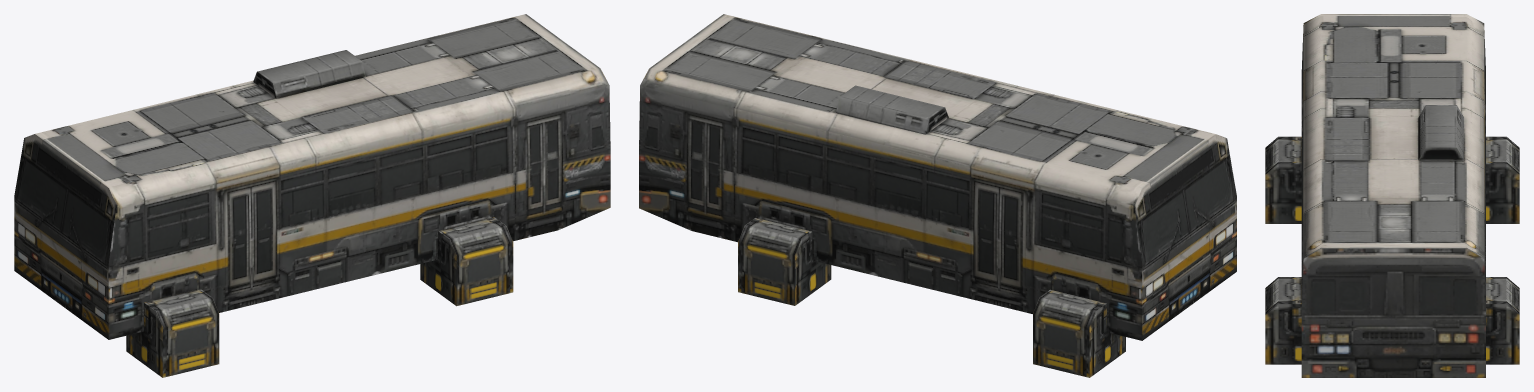
The model's file is CP_Air_Traffic_Bus.fbx.
3 views of the same model, side by side, from view 1: azimuth 30°, elevation 25°; view 2: azimuth 150°, elevation 25°; view 3: azimuth 270°, elevation 25° (orthographic). The views are drawn at different scales.
Parts seen in each view (by area): view 1: CP_Air_Traffic_Bus; view 2: CP_Air_Traffic_Bus; view 3: CP_Air_Traffic_Bus.
Part boxes in pixels (x1,y1,x2,y2): CP_Air_Traffic_Bus: [14, 14, 610, 377]; CP_Air_Traffic_Bus: [639, 14, 1236, 377]; CP_Air_Traffic_Bus: [1265, 14, 1519, 377].
Size of the model in its own units: 893 by 320 by 401.
